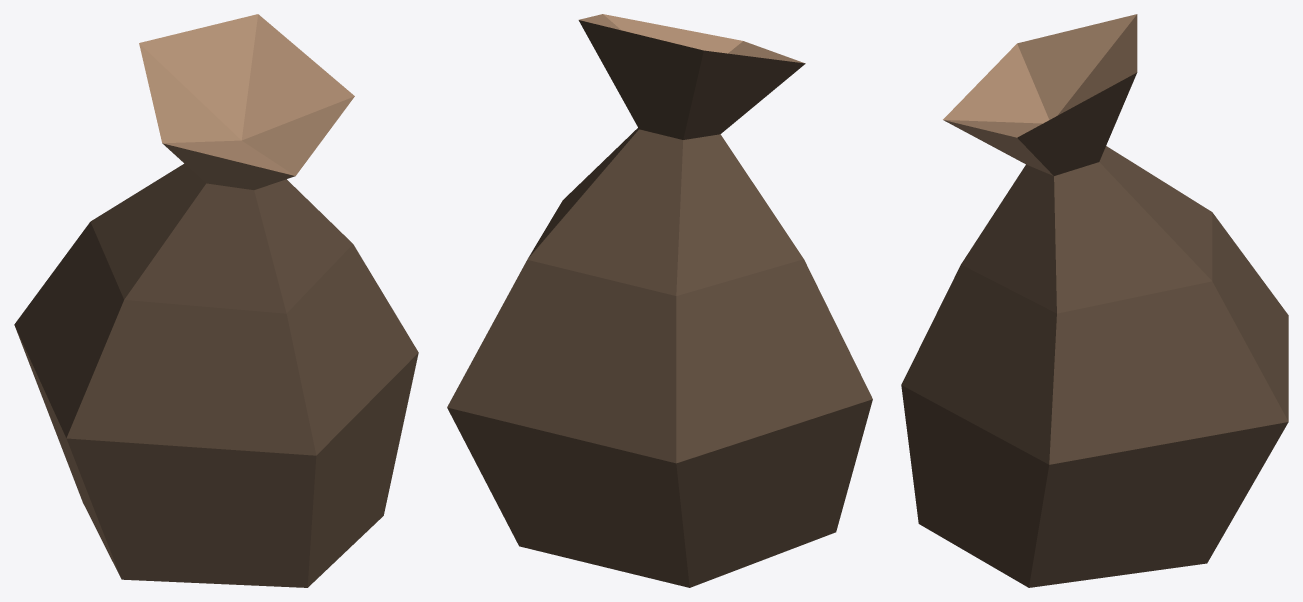
File: TB_D_Prop_Sack_A.FBX
The picture shows the model from 3 angles, left to right: view 1: azimuth 30°, elevation 25°; view 2: azimuth 150°, elevation 25°; view 3: azimuth 270°, elevation 25°; orthographic projection. The views are drawn at different scales.
Visible parts, largest first — view 1: TB_D_Prop_Sack_A; view 2: TB_D_Prop_Sack_A; view 3: TB_D_Prop_Sack_A.
Part boxes in pixels (x1,y1,x2,y2): TB_D_Prop_Sack_A: [14, 14, 418, 587]; TB_D_Prop_Sack_A: [447, 14, 872, 587]; TB_D_Prop_Sack_A: [901, 14, 1288, 587].
Size of the model in its own units: 0.7658 by 0.9961 by 0.7276.
